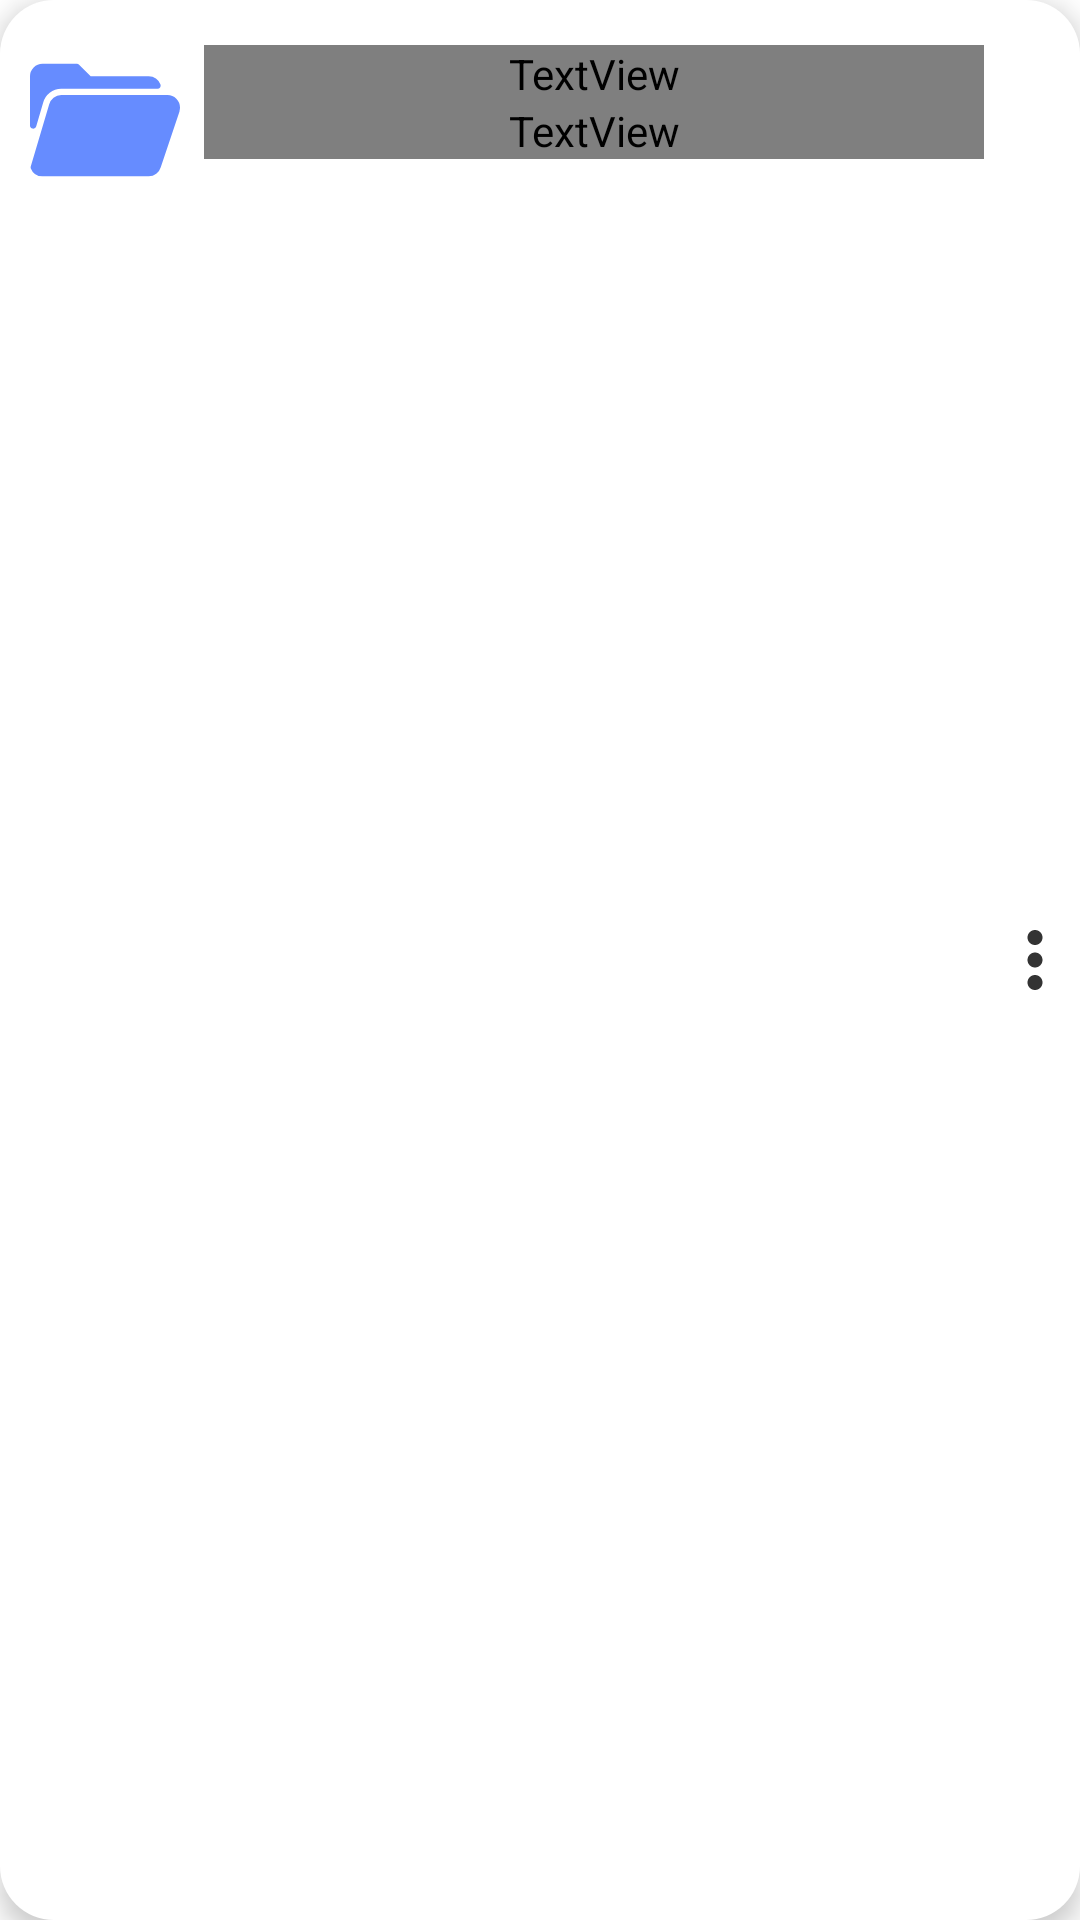

Point at icon controls on the screen. Image size 1080x1920, points as (x=x, y=y).
folder: (x=105, y=120)
more: (x=1035, y=960)
